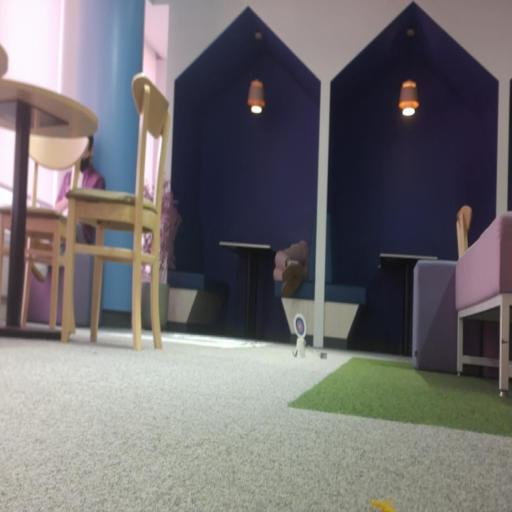target: (294, 314, 306, 341)
